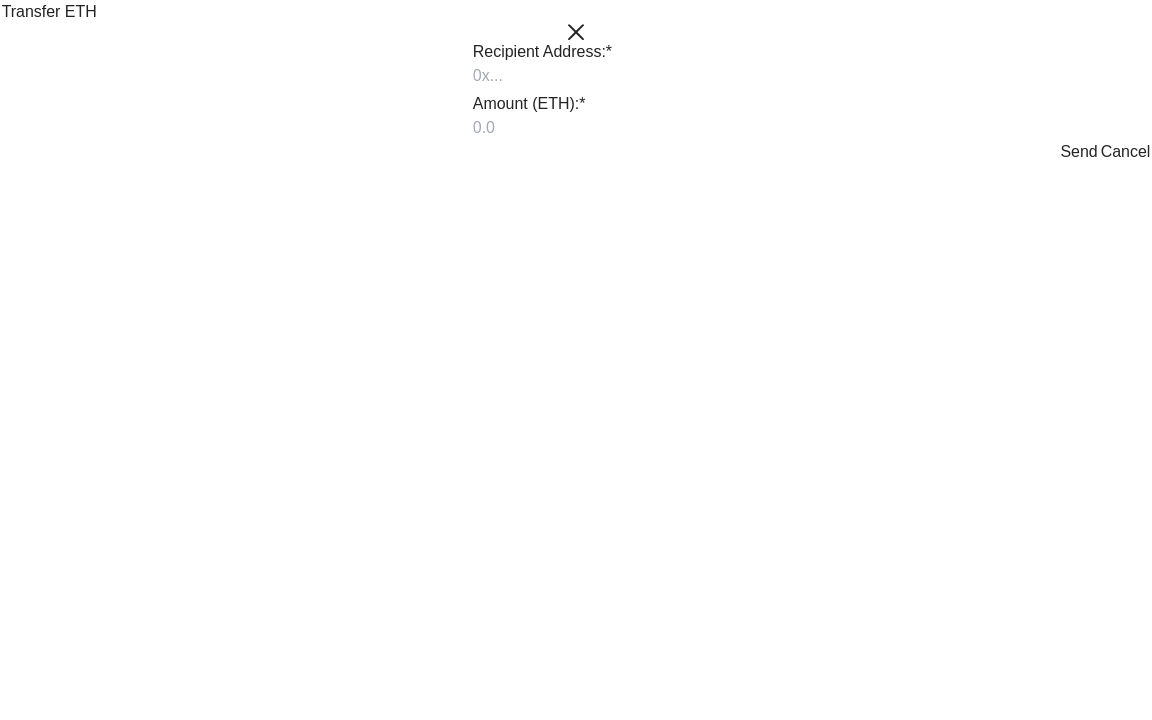
Scenario: TransferModal › Modal Behavior › resets form on close
This screenshot has width=1152, height=720.
Type "0x123valid" into the field with test id "recipient" at (576, 76), box x1=473 y1=64 x2=679 y2=88
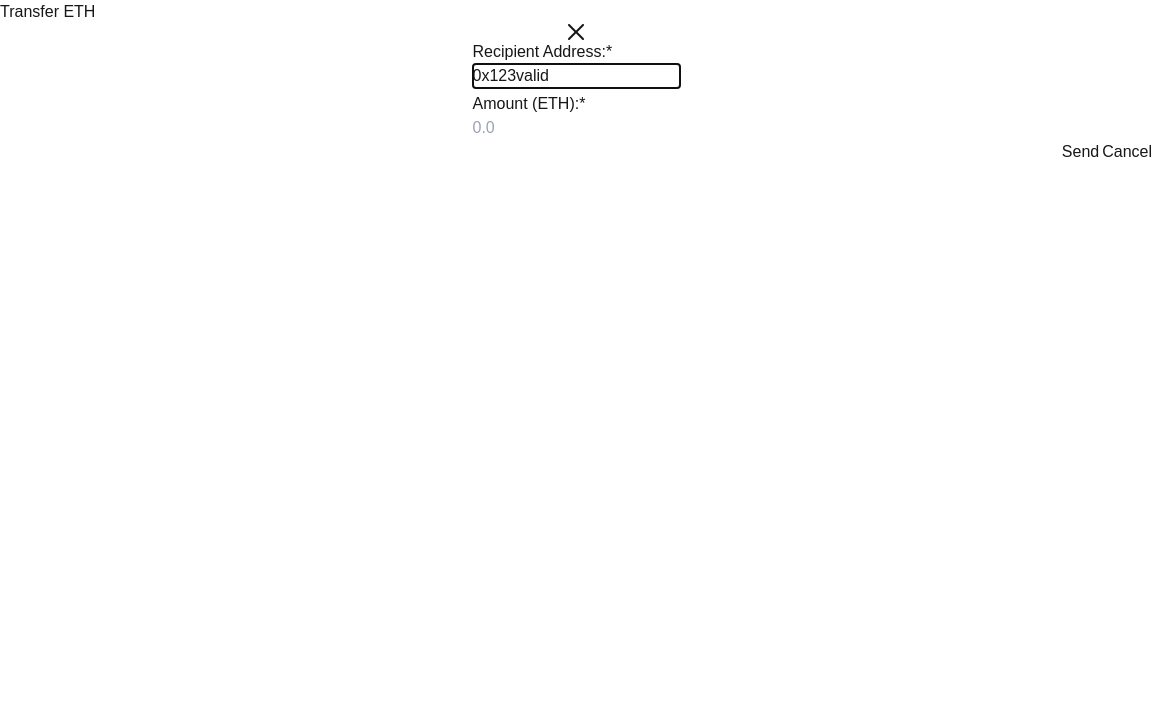
Type "0.1" into the number field with test id "amount" at (576, 128), box x1=472 y1=116 x2=680 y2=140
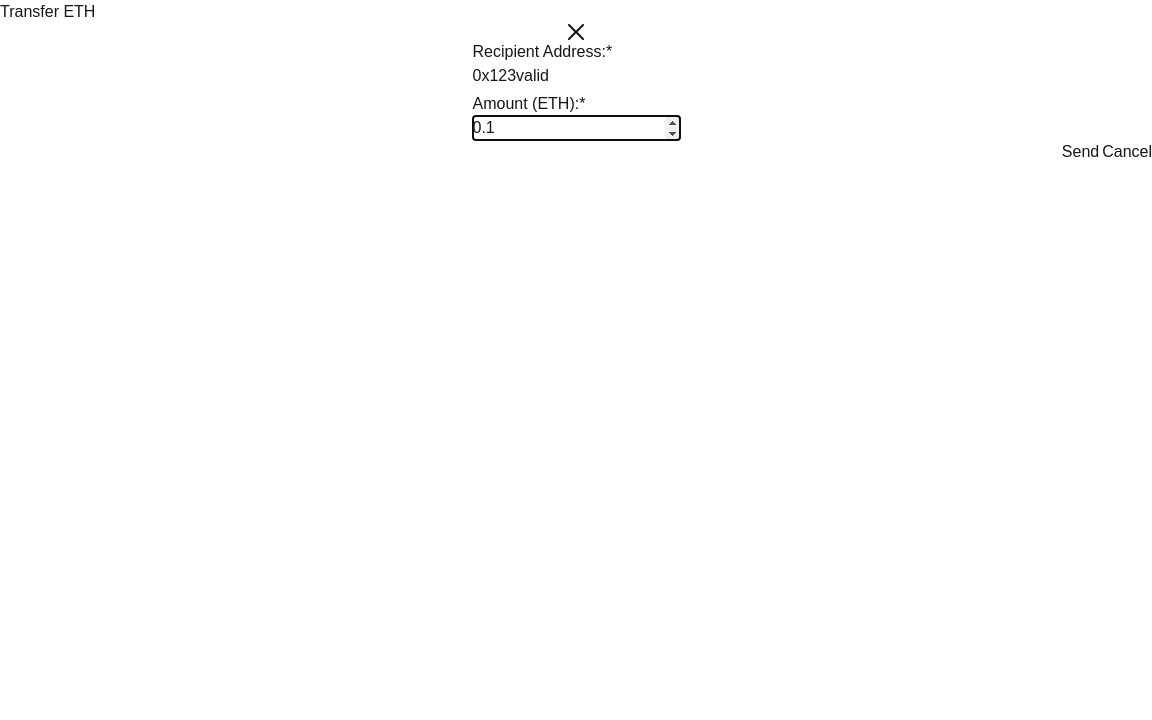
Click the button "Cancel" at (1127, 152), box x1=1102 y1=140 x2=1151 y2=164
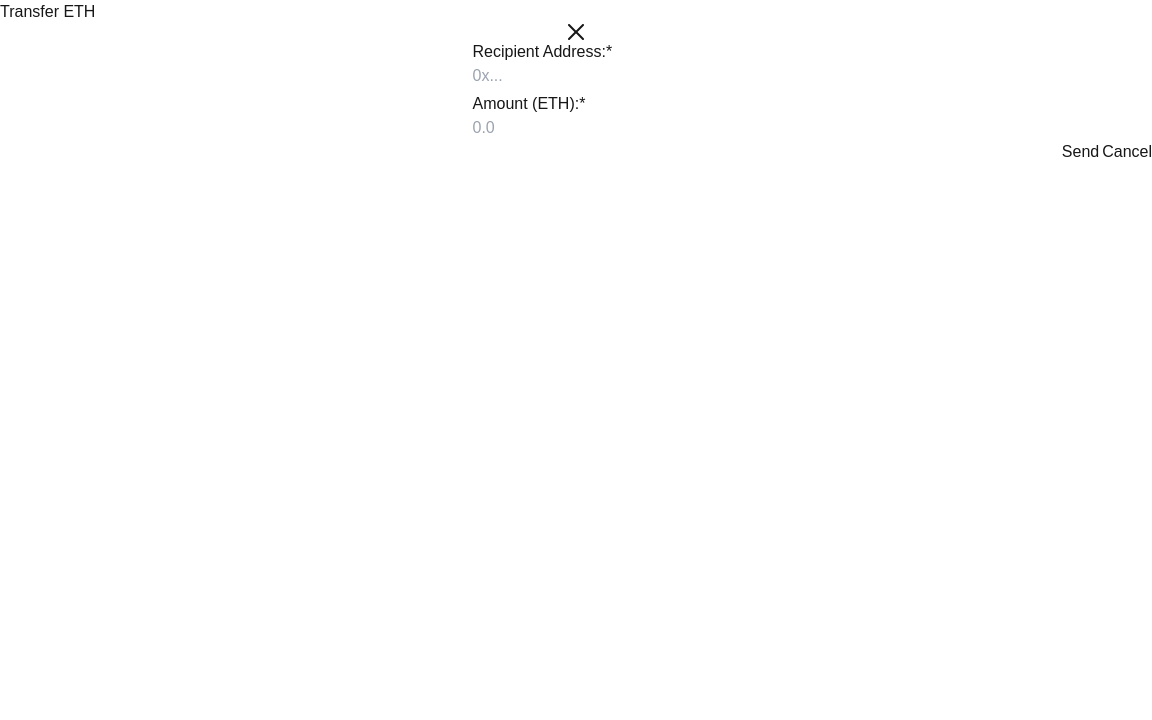
Check: the field with test id "recipient" is empty, box x1=472 y1=64 x2=680 y2=88
